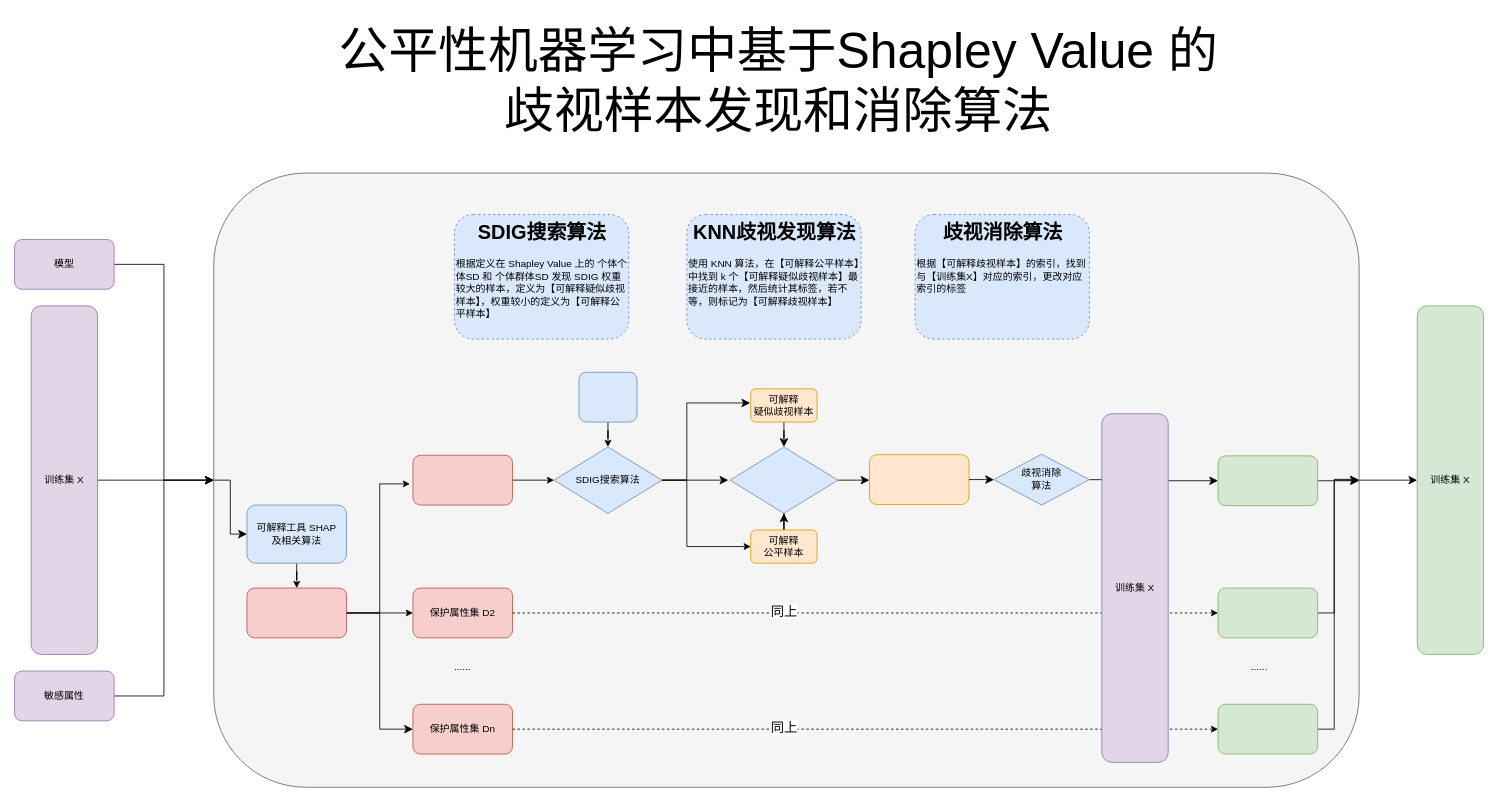
The diagram is 1498 pixels wide and 802 high, and some of its shapes have lost their labels. Each missing label, with the centre of its shape:
"KNN歧视 发现算法" belongs at pixel 783 479.
"保护属性集 D1" belongs at pixel 462 479.
"可解释 歧视样本 索引" belongs at pixel 919 479.
"新指标 SDII SDIG" belongs at pixel 607 396.
"新的保护属性集 D1" belongs at pixel 1267 480.
"新的保护属性集 D2" belongs at pixel 1267 612.
"新的保护属性集 Dn" belongs at pixel 1267 728.
"训练集 X ShapleyValue" belongs at pixel 296 612.
